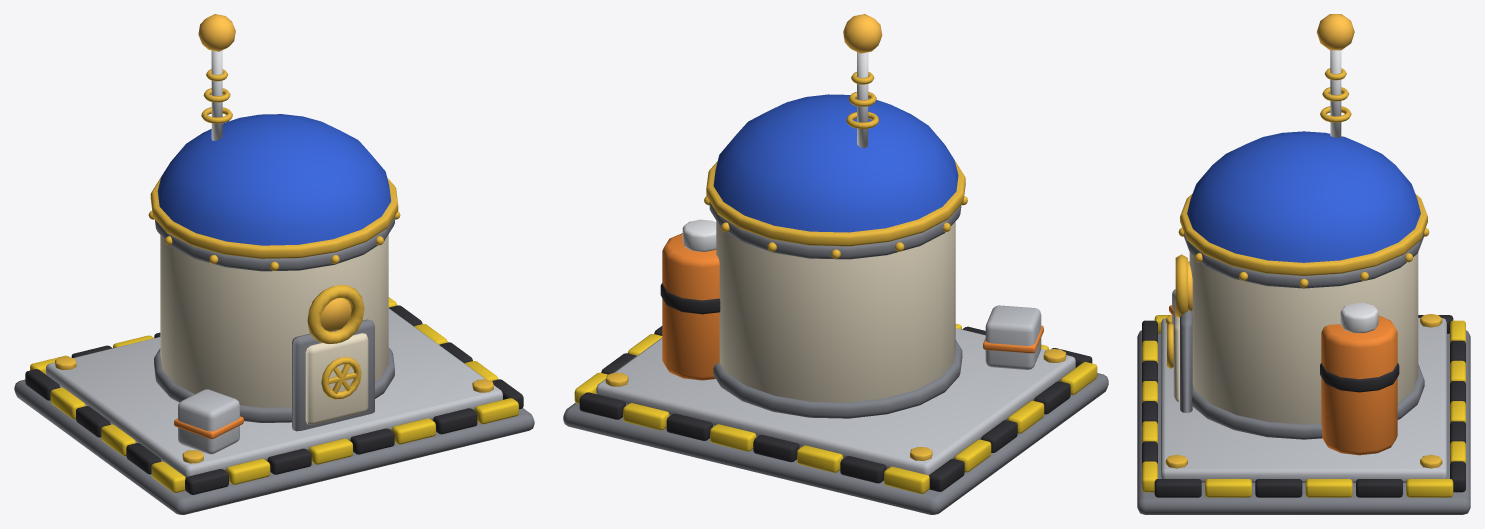
File: House.glb
3 renders of one model, left to right at view 1: azimuth 30°, elevation 25°; view 2: azimuth 150°, elevation 25°; view 3: azimuth 270°, elevation 25°, orthographic. The views are drawn at different scales.
Visible parts, largest first — view 1: House; view 2: House; view 3: House.
Boxes of the visible parts, left/top/right/bottom form: House: left=14, top=14, right=534, bottom=514; House: left=563, top=14, right=1108, bottom=514; House: left=1137, top=14, right=1470, bottom=514.
Size of the model in its own units: 2.6 by 2.75 by 2.1.
